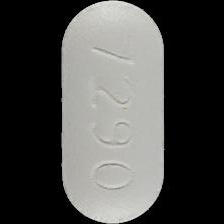42291-726: (0, 0, 224, 224)
